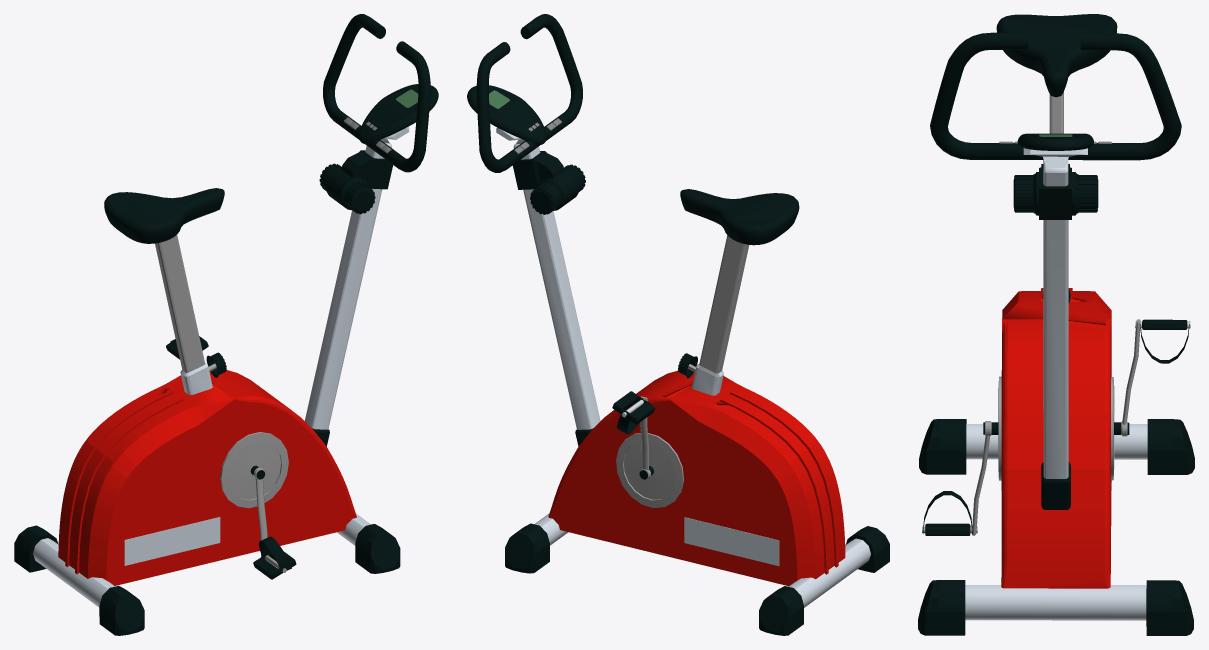
The model's file is trainer.fbx.
3 views of the same model, side by side, from view 1: azimuth 30°, elevation 25°; view 2: azimuth 150°, elevation 25°; view 3: azimuth 270°, elevation 25° (orthographic). The views are drawn at different scales.
Visible parts, largest first — view 1: Trainer; view 2: Trainer; view 3: Trainer.
Part boxes in pixels (x1,y1,x2,y2): Trainer: (14,14,438,635); Trainer: (467,14,889,635); Trainer: (918,14,1194,635).
Size of the model in its own units: 19.18 by 24.01 by 9.59.
